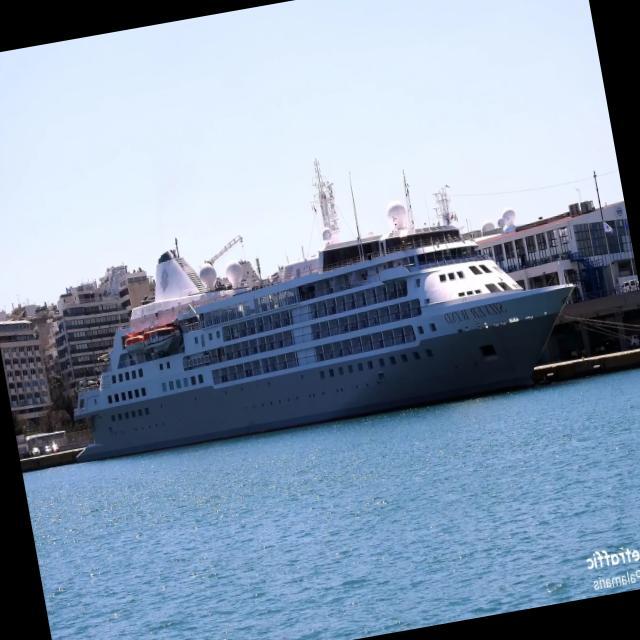Cruise: (76, 162, 570, 459)
